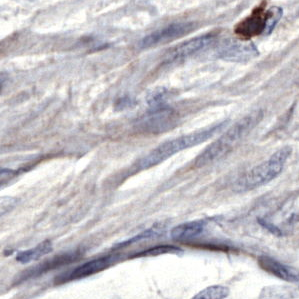Lymphocyte: (234, 9, 271, 39)
